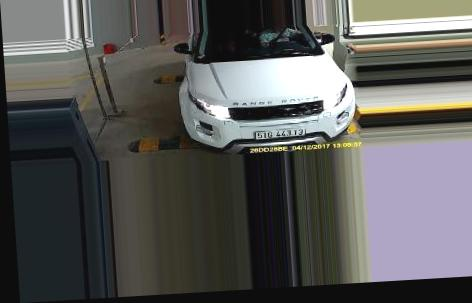License_Plate: (255, 127, 304, 139)
